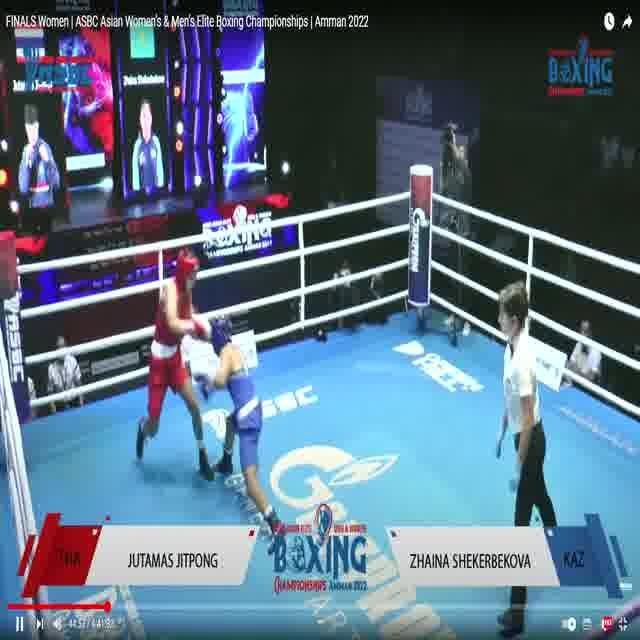blue-player: (196, 316, 284, 550)
red-player: (133, 252, 216, 478)
referee: (489, 276, 575, 640)
